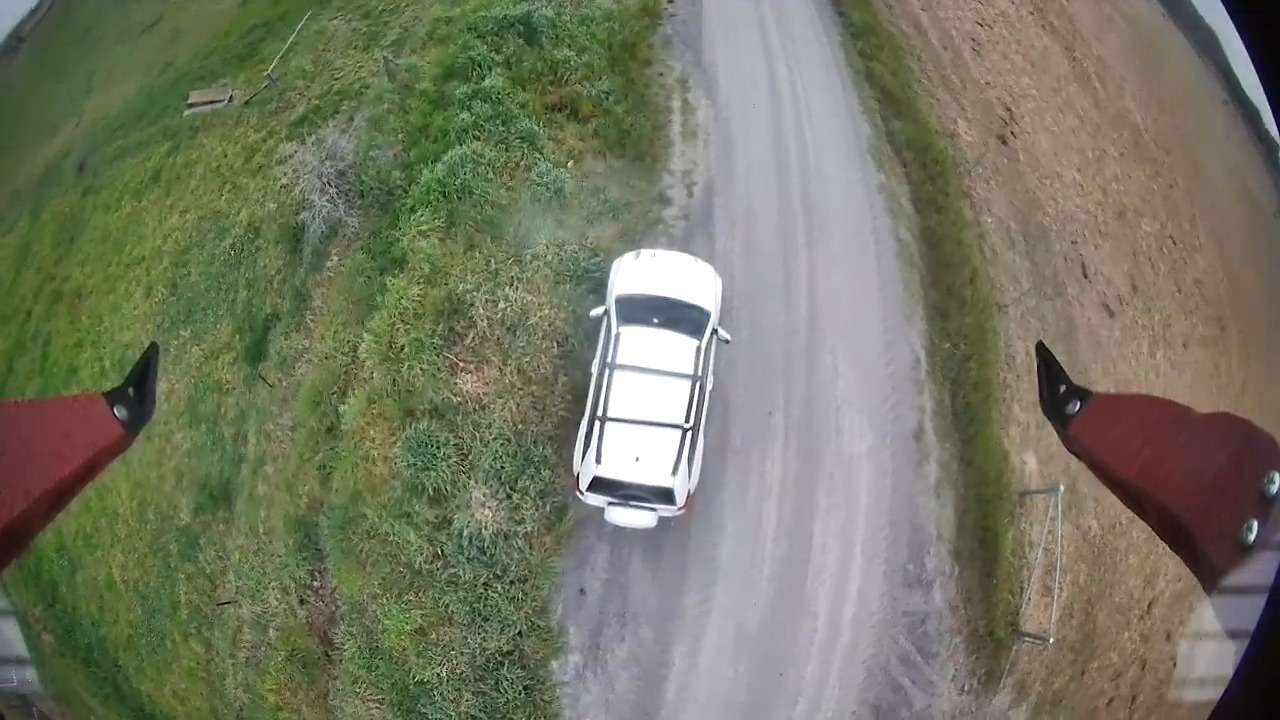Car: (572, 248, 731, 529)
